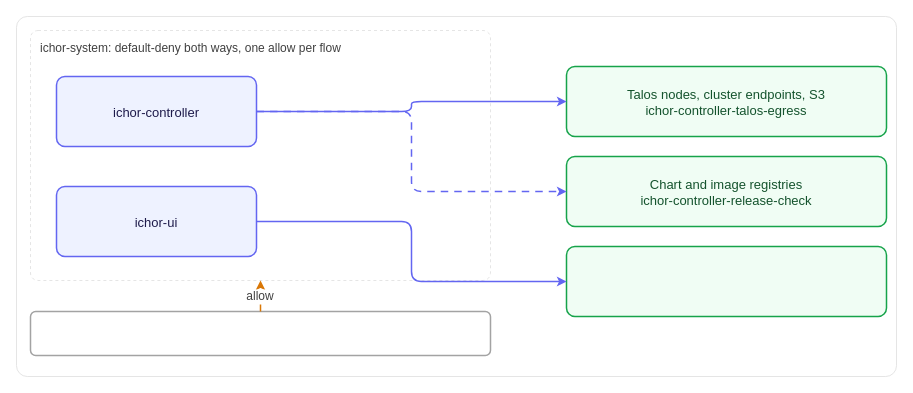
This 913x393 diagram has some shape labels left out. The shapes that lost their labels are listed below. From the top down, each one's centre as x and y in pixels, then its label:
At (726,281): "External OIDC issuer ichor-ui-oidc-egress".
At (260,333): "Metrics scraper you name: reaches the controller port 8443".
